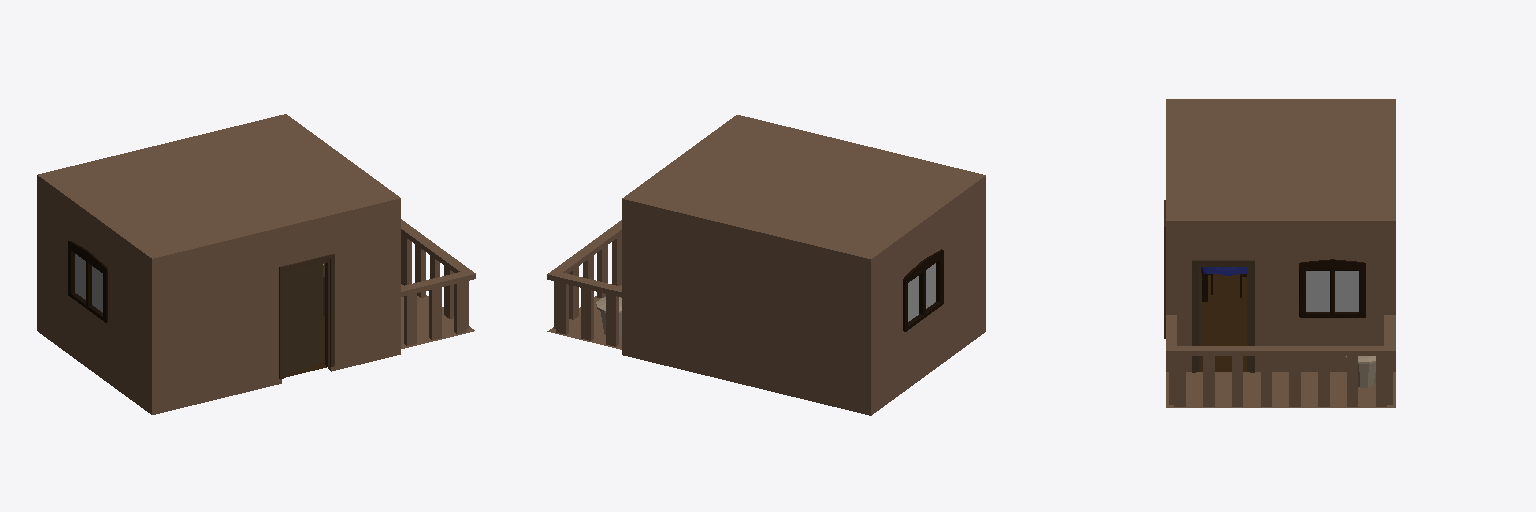
Rendered from kitchen.obj.
3 renders of one model, left to right at view 1: azimuth 30°, elevation 25°; view 2: azimuth 150°, elevation 25°; view 3: azimuth 270°, elevation 25°, orthographic.
Visible parts, largest first — view 1: Room_Plane.003, Door.000_Plane.011, Fence_Plane.018, Window_1_Plane.005, Room.002_Plane.015; view 2: Room_Plane.003, Fence_Plane.018, Window_1_Plane.005, Room.002_Plane.015; view 3: Room_Plane.003, Fence_Plane.018, Room.002_Plane.015, Window_1.001_Plane.006, Room.001_Plane.014, Door.001_Plane.011, Trash_Circle.006.
Boxes of the visible parts, <box> form: Room_Plane.003: <box>37,114,400,414</box>; Door.000_Plane.011: <box>279,254,334,379</box>; Fence_Plane.018: <box>401,219,475,345</box>; Window_1_Plane.005: <box>68,241,107,322</box>; Room.002_Plane.015: <box>401,284,474,348</box>; Room_Plane.003: <box>622,115,985,415</box>; Fence_Plane.018: <box>547,220,621,346</box>; Window_1_Plane.005: <box>903,249,943,331</box>; Room.002_Plane.015: <box>547,285,621,349</box>; Room_Plane.003: <box>1166,99,1395,371</box>; Fence_Plane.018: <box>1166,315,1395,406</box>; Room.002_Plane.015: <box>1166,372,1395,407</box>; Window_1.001_Plane.006: <box>1299,259,1365,317</box>; Room.001_Plane.014: <box>1199,274,1246,371</box>; Door.001_Plane.011: <box>1192,260,1254,372</box>; Trash_Circle.006: <box>1345,356,1375,387</box>.
Bounding box in the file's own units: 65.35 × 30 × 40.27.